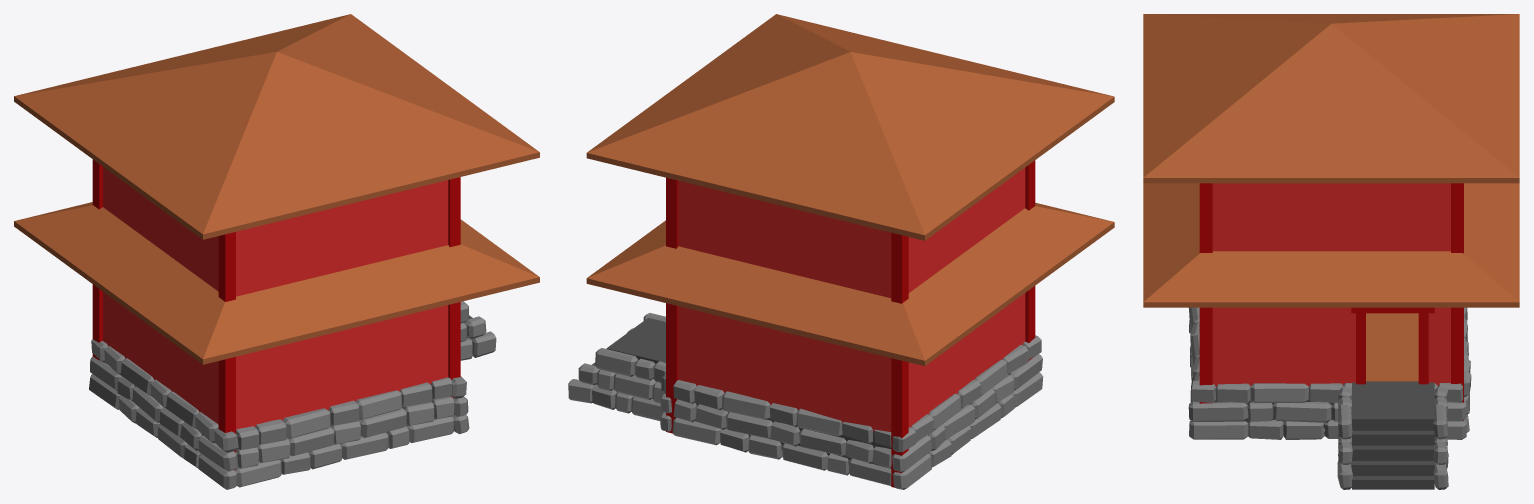
File: health_center.glb
3 views of the same model, side by side, from view 1: azimuth 30°, elevation 25°; view 2: azimuth 150°, elevation 25°; view 3: azimuth 270°, elevation 25° (orthographic).
Parts seen in each view (by area): view 1: roof.001, roof, wall3, wall3.001, stone_wall_L, stone_wall_B, wall4, wall4.001, pillars1, pillars1.001, Cube.002, stone_wall_F (+1 smaller); view 2: roof.001, roof, wall2, wall2.001, stone_wall_R, stone_wall_B, wall4, wall4.001, Cube.004, pillars2, pillars2.001, stairs (+1 smaller); view 3: roof.001, roof, wall1.001, wall1, stone_wall_F, stairs, floor1, Cube.004, Cube.002, pillars1, pillars2, pillars1.001 (+6 smaller).
Boxes of the visible parts, bbox=[...] form: roof.001: bbox=[14, 14, 539, 239]; roof: bbox=[14, 202, 539, 364]; wall3: bbox=[236, 305, 448, 429]; wall3.001: bbox=[236, 180, 448, 296]; stone_wall_L: bbox=[235, 377, 454, 487]; stone_wall_B: bbox=[89, 339, 238, 489]; wall4: bbox=[103, 292, 218, 424]; wall4.001: bbox=[103, 167, 218, 291]; pillars1: bbox=[218, 302, 460, 469]; pillars1.001: bbox=[218, 177, 460, 301]; Cube.002: bbox=[460, 301, 496, 360]; stone_wall_F: bbox=[451, 376, 469, 434]; roof.001: bbox=[586, 14, 1114, 240]; roof: bbox=[586, 202, 1114, 366]; wall2: bbox=[678, 306, 891, 432]; wall2.001: bbox=[678, 180, 891, 298]; stone_wall_R: bbox=[672, 380, 891, 485]; stone_wall_B: bbox=[891, 335, 1043, 489]; wall4: bbox=[908, 293, 1025, 427]; wall4.001: bbox=[908, 168, 1025, 292]; Cube.004: bbox=[568, 348, 665, 420]; pillars2: bbox=[666, 303, 908, 487]; pillars2.001: bbox=[666, 177, 908, 303]; stairs: bbox=[592, 317, 665, 384]; roof.001: bbox=[1143, 14, 1519, 183]; roof: bbox=[1143, 183, 1519, 307]; wall1.001: bbox=[1212, 183, 1450, 251]; wall1: bbox=[1212, 307, 1450, 386]; stone_wall_F: bbox=[1188, 380, 1466, 439]; stairs: bbox=[1352, 381, 1434, 489]; floor1: bbox=[1366, 313, 1418, 381]; Cube.004: bbox=[1433, 387, 1448, 489]; Cube.002: bbox=[1337, 387, 1352, 489]; pillars1: bbox=[1199, 307, 1212, 403]; pillars2: bbox=[1451, 307, 1463, 420]; pillars1.001: bbox=[1199, 183, 1212, 252].
Bounding box in the file's own units: 15.46 × 13.51 × 12.84.
